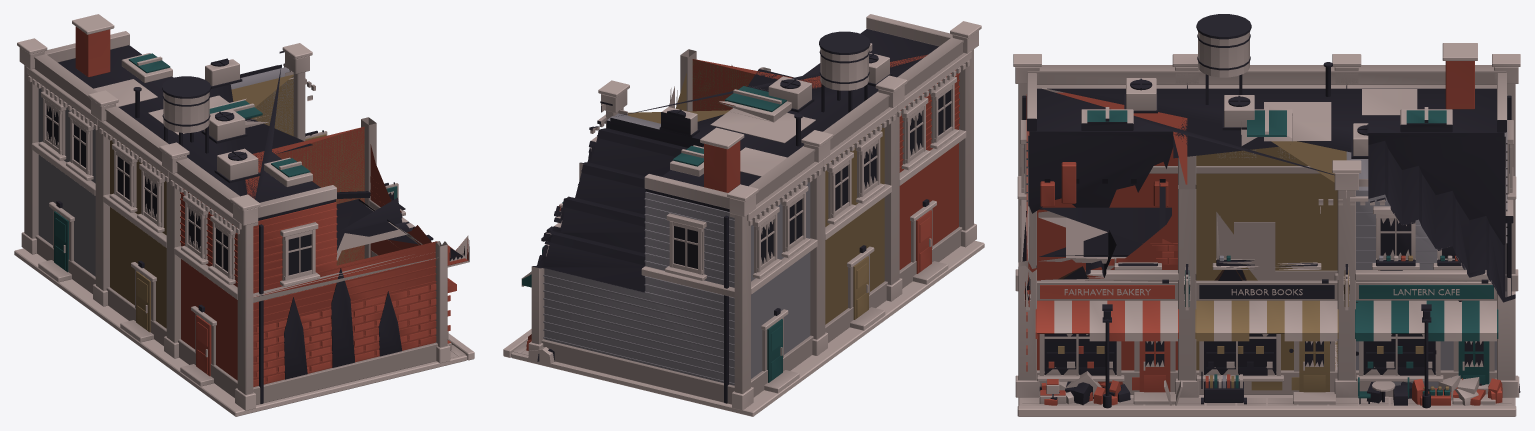
The model's file is bld.storefront-row.w6.glb.
The picture shows the model from 3 angles, left to right: view 1: azimuth 30°, elevation 25°; view 2: azimuth 150°, elevation 25°; view 3: azimuth 270°, elevation 25°; orthographic projection. The views are drawn at different scales.
Parts seen in each view (by area): view 1: body; view 2: body; view 3: body.
Boxes of the visible parts, box(x1,y1,x2,y2) form: body: box(14, 14, 474, 416); body: box(503, 14, 984, 416); body: box(1013, 14, 1520, 416).
Bounding box in the file's own units: 10.1 × 10.22 × 16.54.
